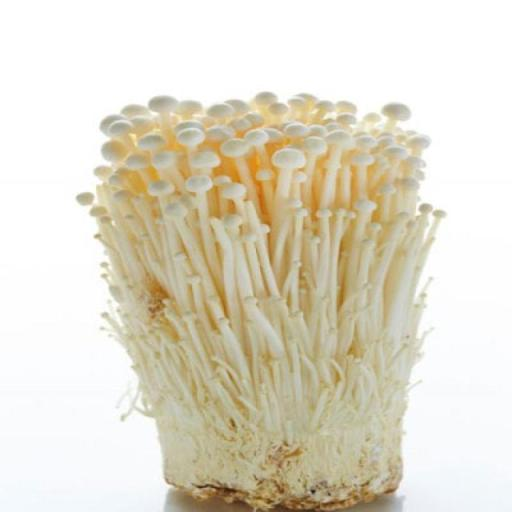Enoki Mushroom: (74, 92, 446, 507)
